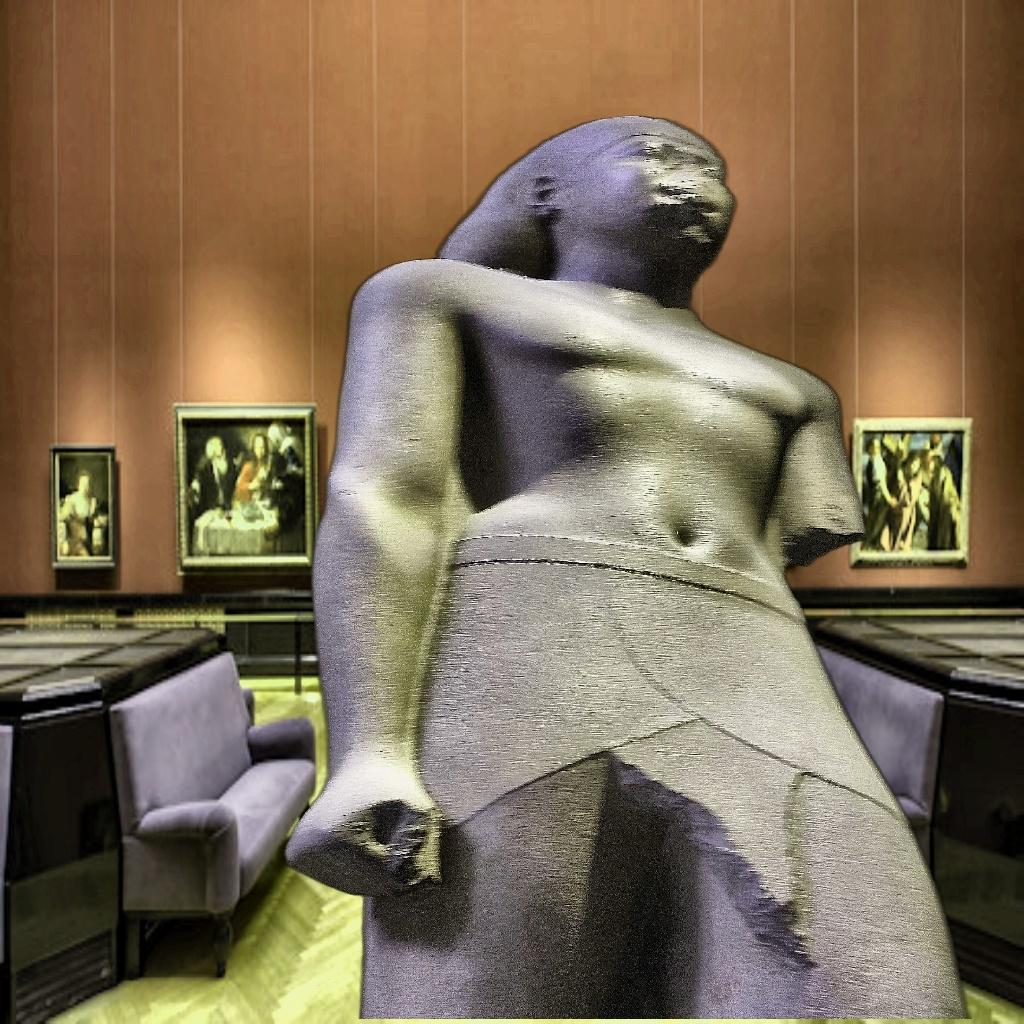Colossal Statue of Hormoheb: (276, 111, 972, 1019)
